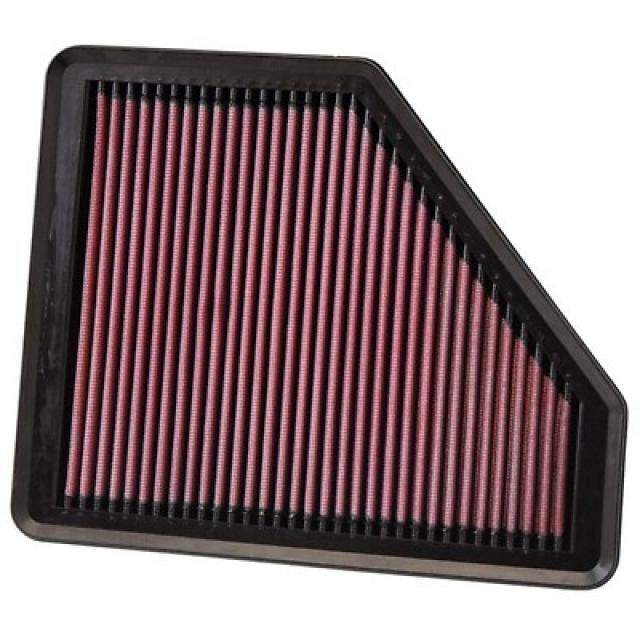air_filter: (19, 34, 640, 598)
